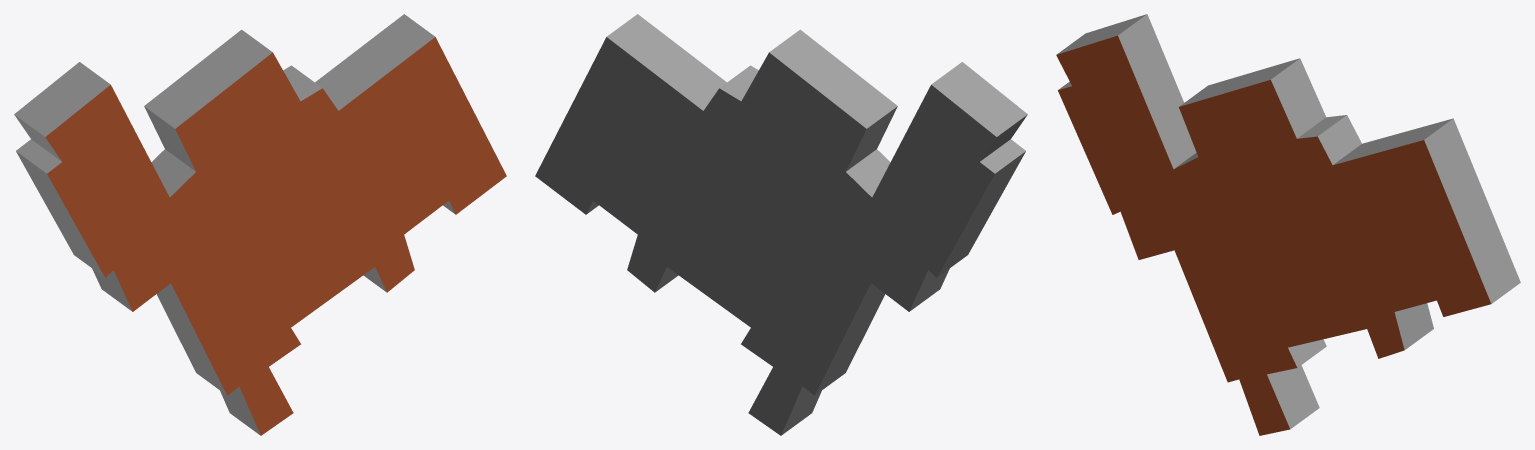
File: construction_3323_assumed_A_Casa_h6m.obj
3 renders of one model, left to right at view 1: azimuth 30°, elevation 25°; view 2: azimuth 150°, elevation 25°; view 3: azimuth 330°, elevation 25°, orthographic. The views are drawn at different scales.
Visible parts, largest first — view 1: construction_3323_assumed_A_Casa; view 2: construction_3323_assumed_A_Casa; view 3: construction_3323_assumed_A_Casa.
Part boxes in pixels (x1,y1,x2,y2): construction_3323_assumed_A_Casa: (14, 14, 506, 435); construction_3323_assumed_A_Casa: (535, 14, 1027, 435); construction_3323_assumed_A_Casa: (1056, 14, 1520, 435).
Size of the model in its own units: 51.23 by 41.15 by 6.
